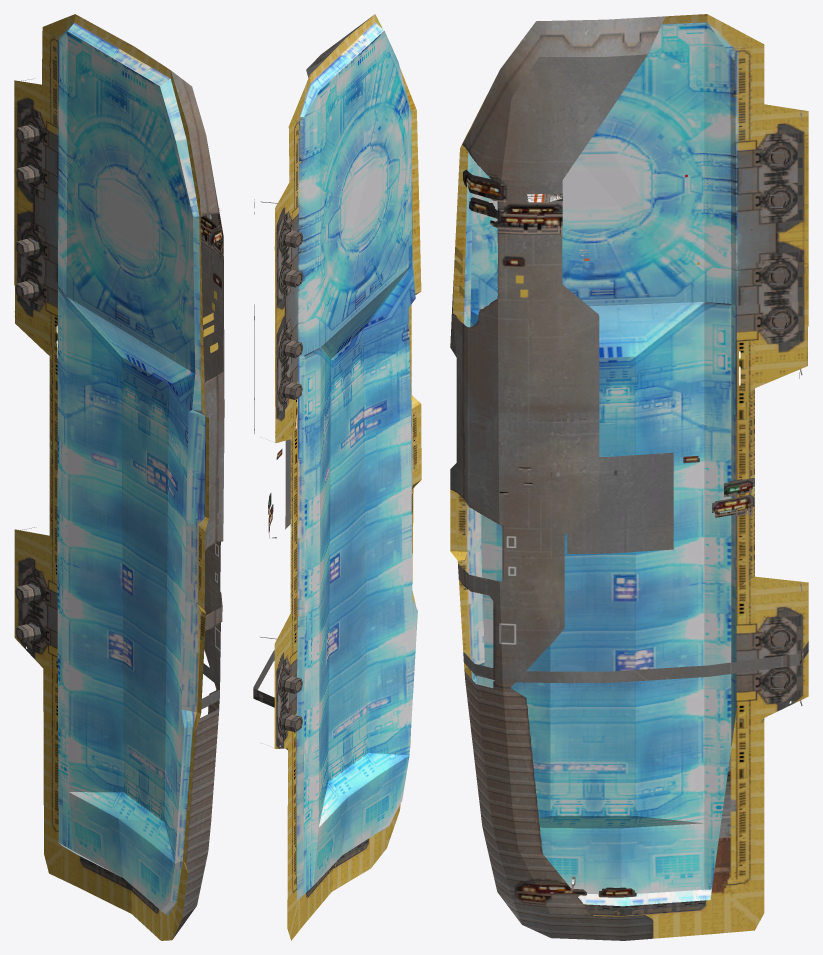
The picture shows the model from 3 angles, left to right: view 1: azimuth 30°, elevation 25°; view 2: azimuth 150°, elevation 25°; view 3: azimuth 270°, elevation 25°; orthographic projection. The views are drawn at different scales.
Visible parts, largest first — view 1: MSdoor_side_lower, MSdoor_side_upper, side_upper; view 2: MSdoor_side_lower, MSdoor_side_upper, side_upper, MSdoor_badge_door1; view 3: MSdoor_side_lower, MSdoor_side_upper, MSdoor_badge_door1.
Boxes of the visible parts, bbox=[...] form: MSdoor_side_lower: bbox=[14, 14, 224, 938]; MSdoor_side_upper: bbox=[14, 22, 208, 940]; side_upper: bbox=[15, 124, 40, 642]; MSdoor_side_lower: bbox=[253, 14, 420, 894]; MSdoor_side_upper: bbox=[253, 22, 421, 940]; side_upper: bbox=[281, 229, 303, 732]; MSdoor_badge_door1: bbox=[285, 428, 296, 529]; MSdoor_side_lower: bbox=[450, 14, 808, 940]; MSdoor_side_upper: bbox=[450, 22, 808, 938]; MSdoor_badge_door1: bbox=[567, 452, 673, 553].
Size of the model in its own units: 117 by 1126 by 398.
